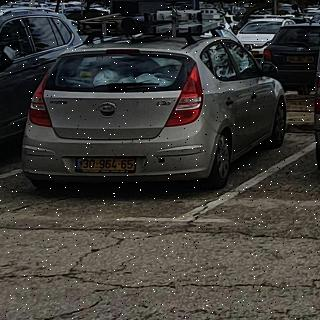LicensePlate: (82, 159, 134, 169)
